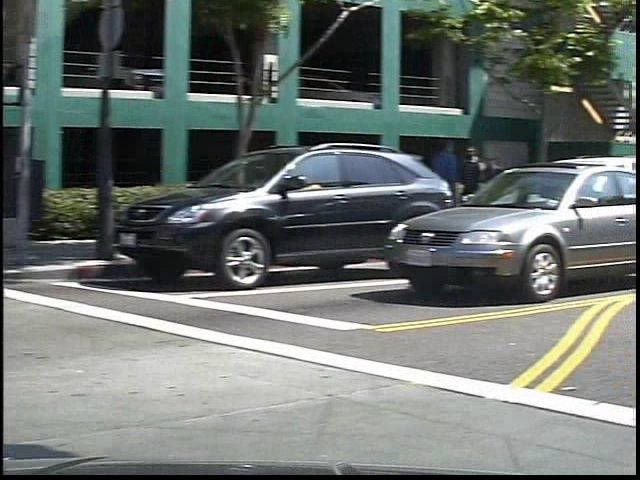person: (445, 136, 485, 240)
